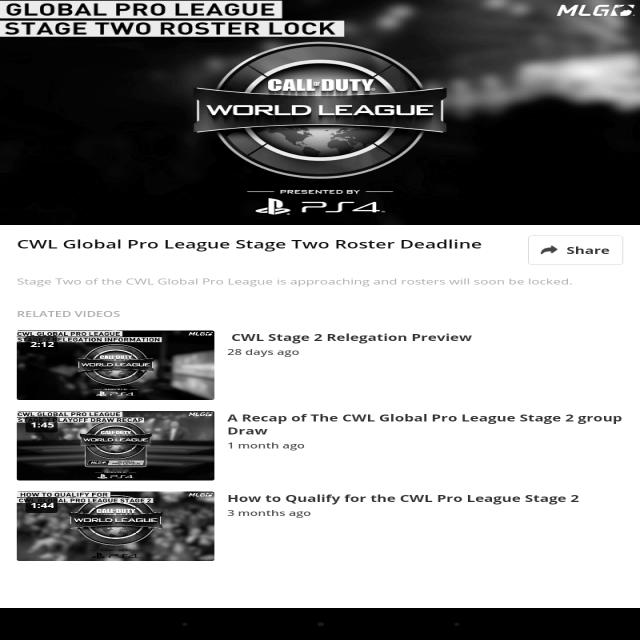ImageView: (9, 324, 217, 404), (7, 485, 217, 563), (6, 408, 219, 480)
TextView: (226, 406, 632, 452), (9, 0, 341, 39), (221, 490, 589, 520), (219, 322, 480, 357), (11, 237, 480, 255), (204, 92, 443, 119), (226, 183, 412, 214), (530, 236, 618, 264), (270, 74, 380, 91)
